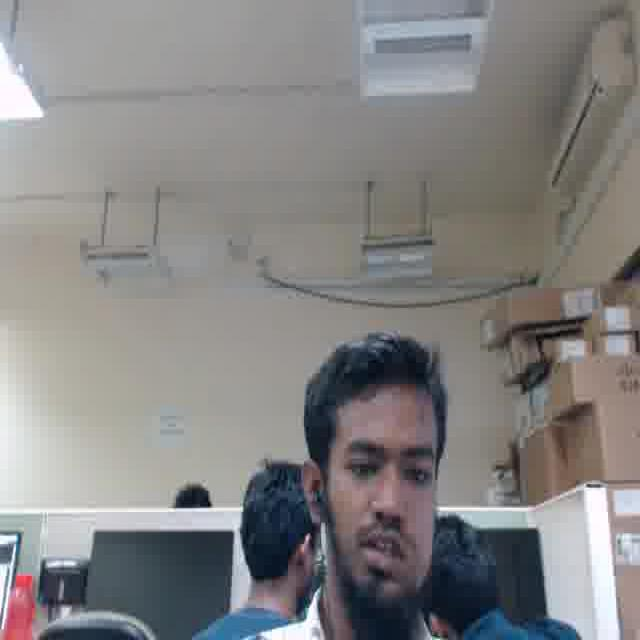Engaged: (325, 392, 440, 595)
